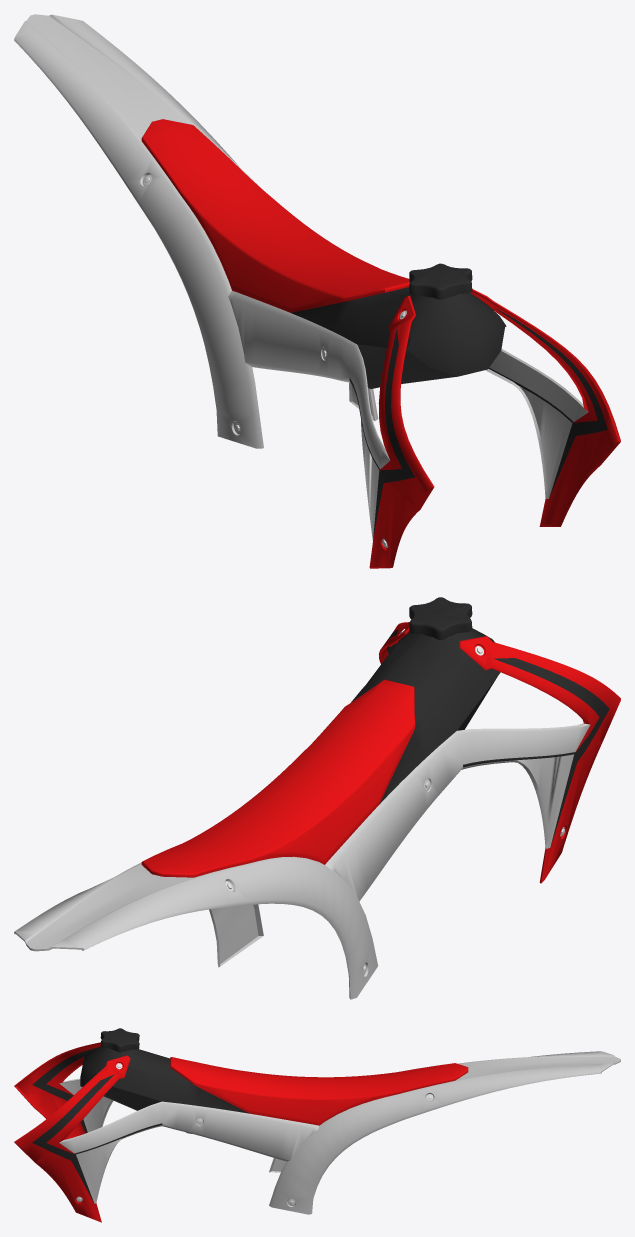
Rendered from BikeSeat.fbx.
3 renders of one model, top to bottom at view 1: azimuth 30°, elevation 25°; view 2: azimuth 150°, elevation 25°; view 3: azimuth 270°, elevation 25°, orthographic. The views are drawn at different scales.
Visible parts, largest first — view 1: Skin; view 2: Skin; view 3: Skin.
Boxes of the visible parts, x1,y1,x2,y2 form: Skin: (14, 14, 620, 568); Skin: (14, 597, 620, 999); Skin: (14, 1028, 620, 1222).
Size of the model in its own units: 33.32 by 41.55 by 142.
